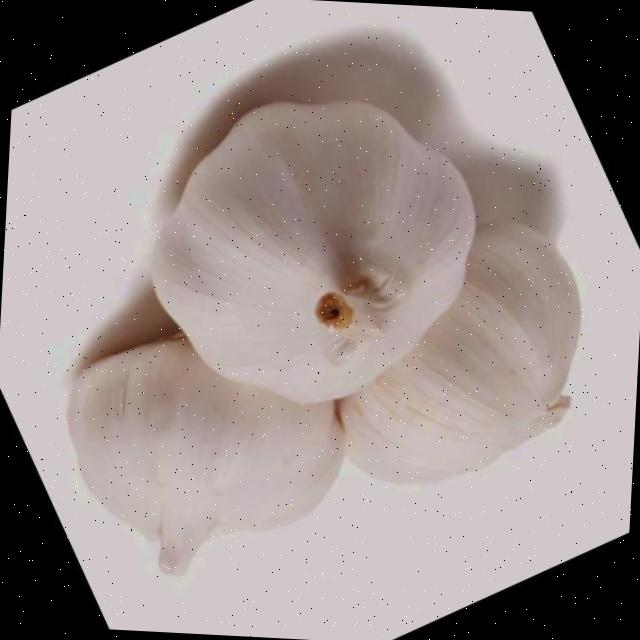garlic: (151, 101, 475, 401), (67, 338, 344, 574), (339, 222, 580, 483)
